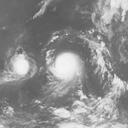cyclone: (51, 51, 84, 82), (10, 54, 34, 80)
